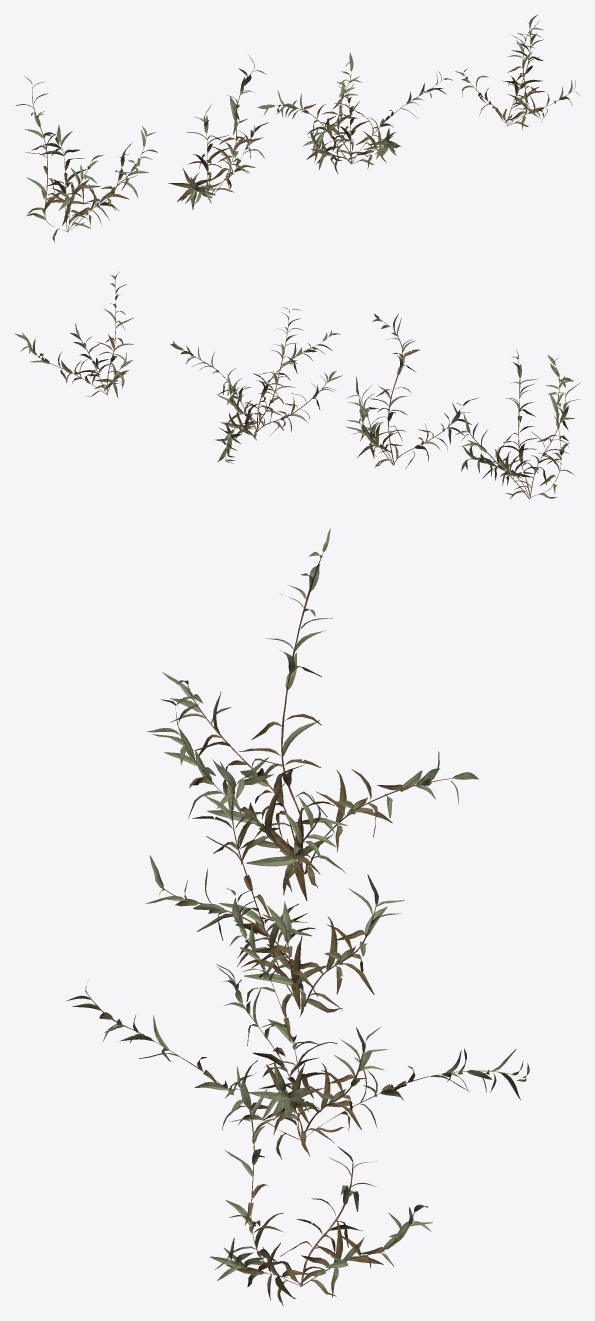
The model's file is shrub_02.glb.
3 views of the same model, one above another, from view 1: azimuth 30°, elevation 25°; view 2: azimuth 150°, elevation 25°; view 3: azimuth 270°, elevation 25° (orthographic). The views are drawn at different scales.
Visible parts, largest first — view 1: shrub_02_c, shrub_02_a, shrub_02_b, shrub_02_d; view 2: shrub_02_a, shrub_02_c, shrub_02_b, shrub_02_d; view 3: shrub_02_a, shrub_02_c, shrub_02_b, shrub_02_d.
Part boxes in pixels (box(x1,y1,x2,y2)): shrub_02_c: box(257, 52, 452, 174); shrub_02_a: box(15, 76, 157, 242); shrub_02_b: box(168, 55, 268, 209); shrub_02_d: box(455, 14, 580, 129); shrub_02_a: box(455, 350, 579, 499); shrub_02_c: box(170, 307, 342, 463); shrub_02_b: box(345, 313, 478, 468); shrub_02_d: box(14, 272, 134, 398); shrub_02_a: box(146, 528, 478, 900); shrub_02_c: box(66, 888, 529, 1159); shrub_02_b: box(145, 757, 404, 1018); shrub_02_d: box(210, 1066, 432, 1305).
Bounding box in the file's own units: 6.05 × 1.7 × 2.29.
Materials: 1 (1 with a texture image).
